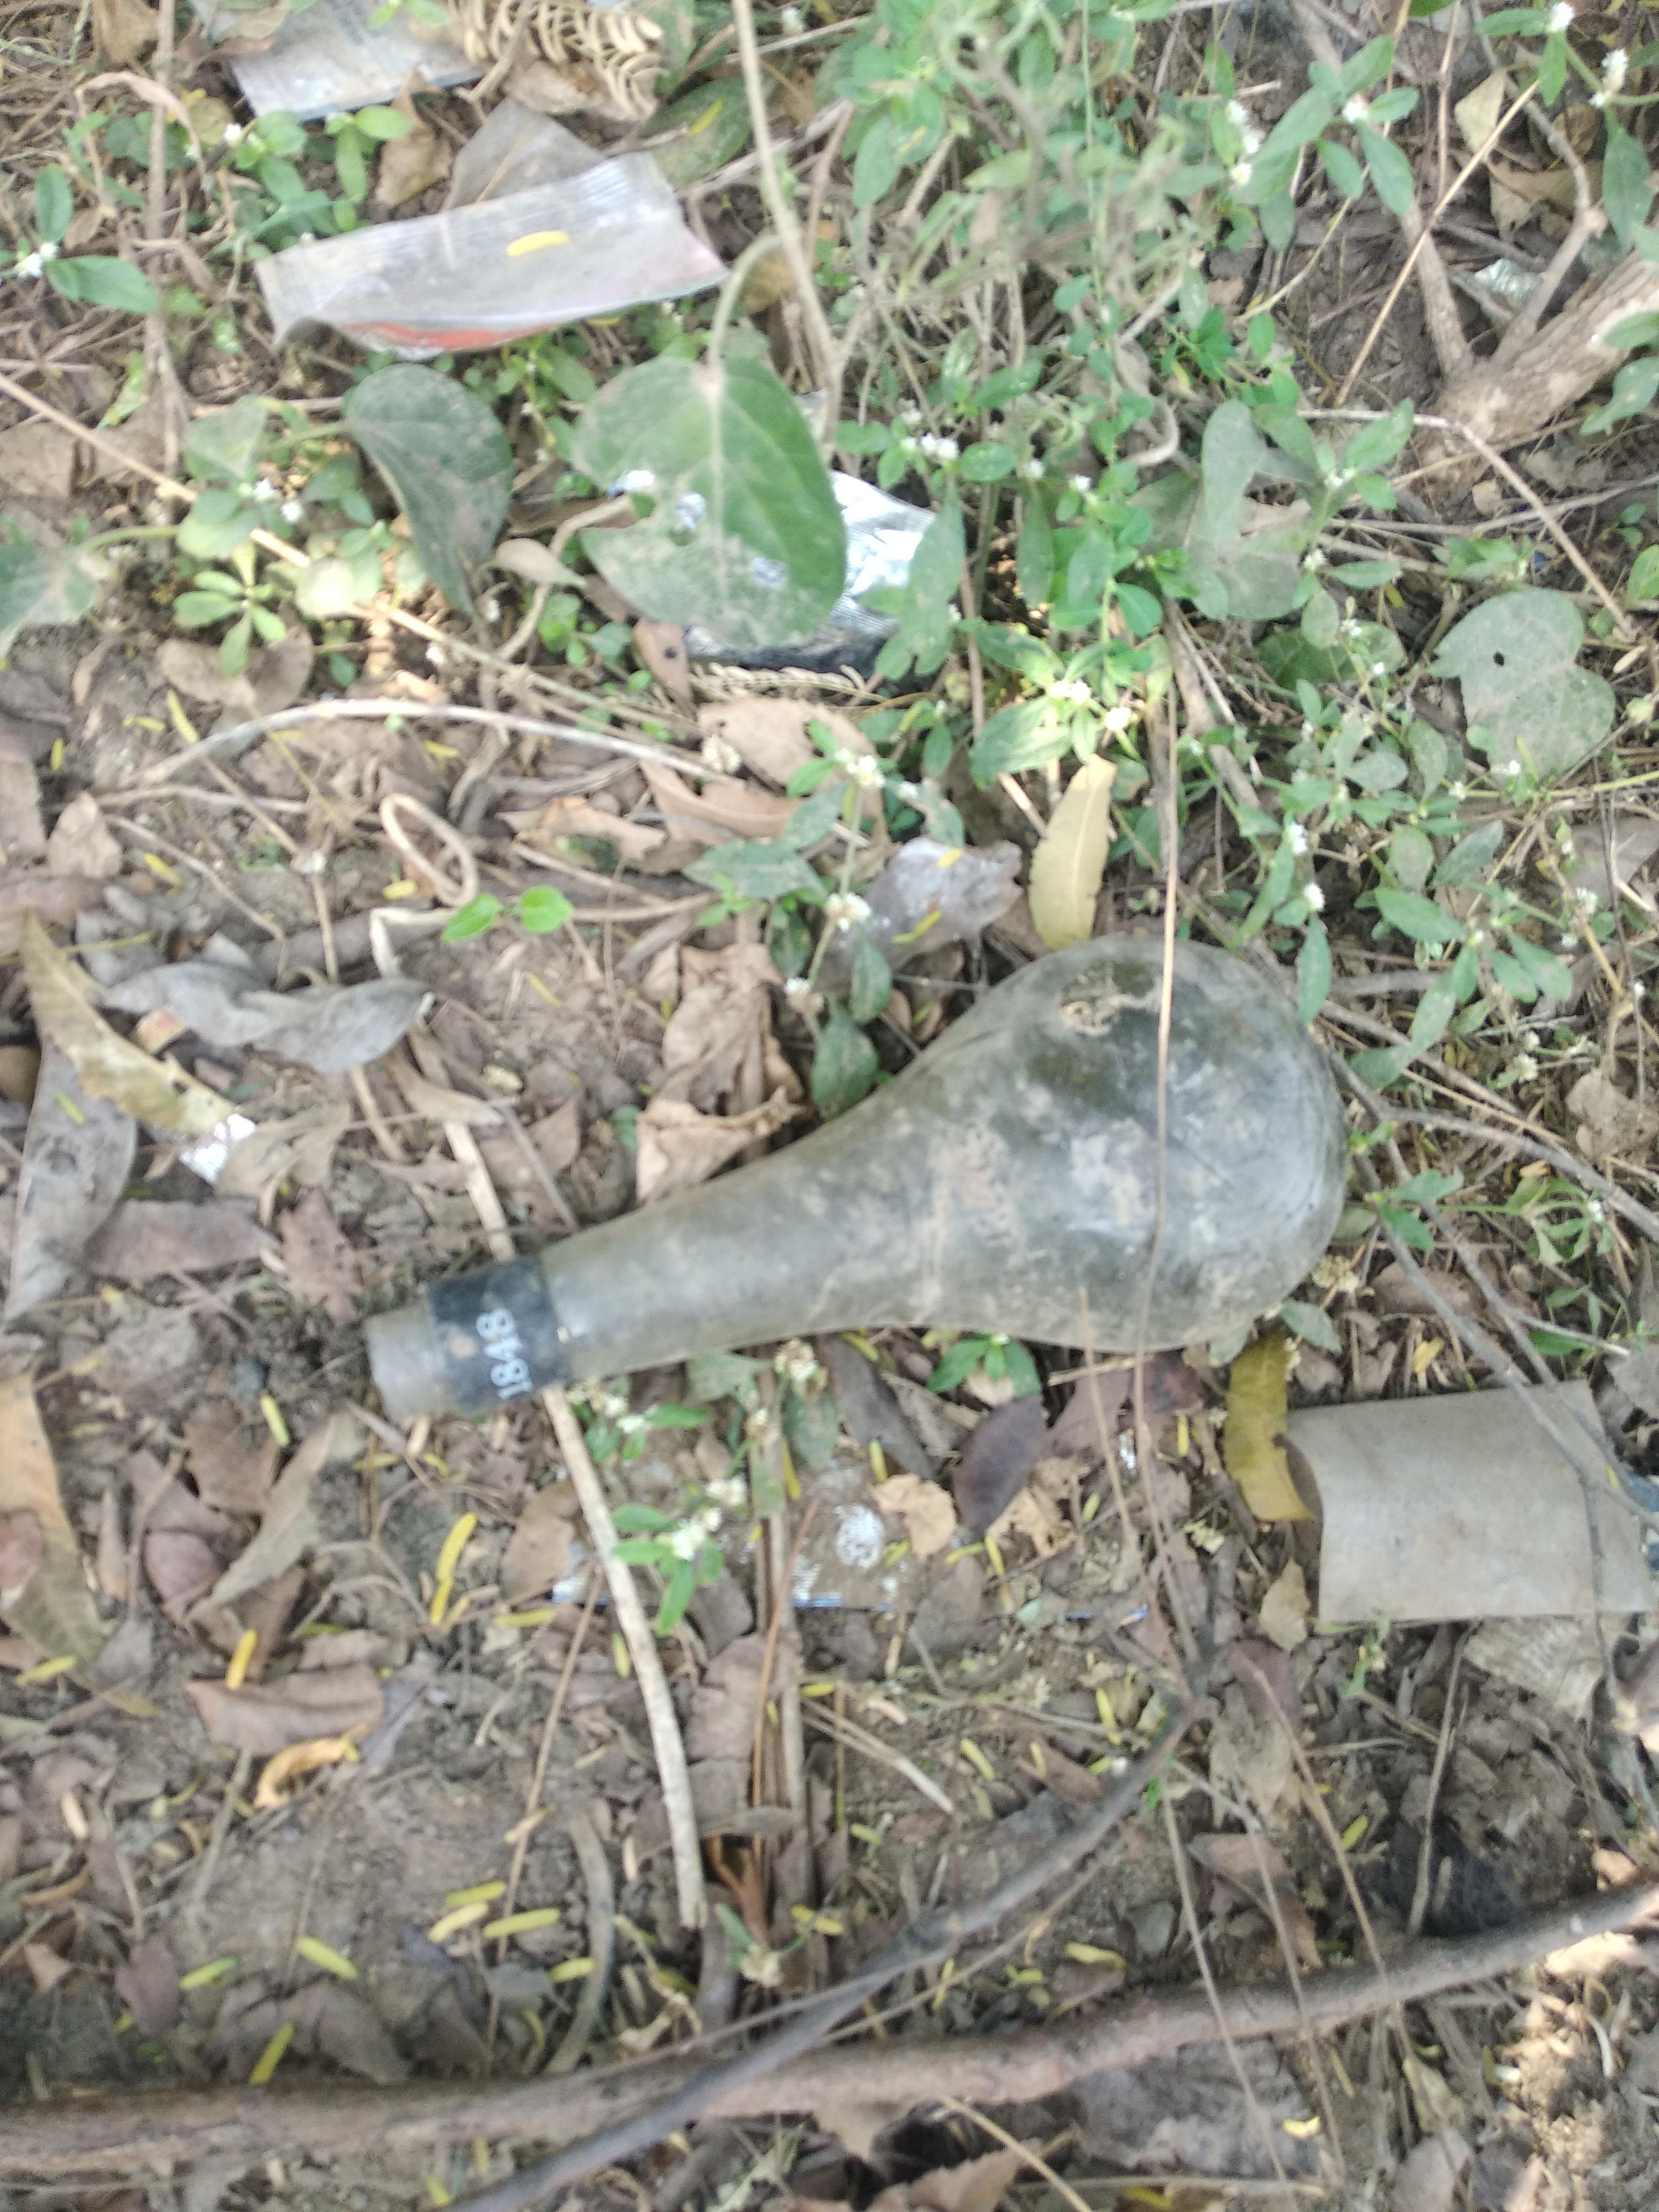trash: (343, 916, 1659, 1642)
